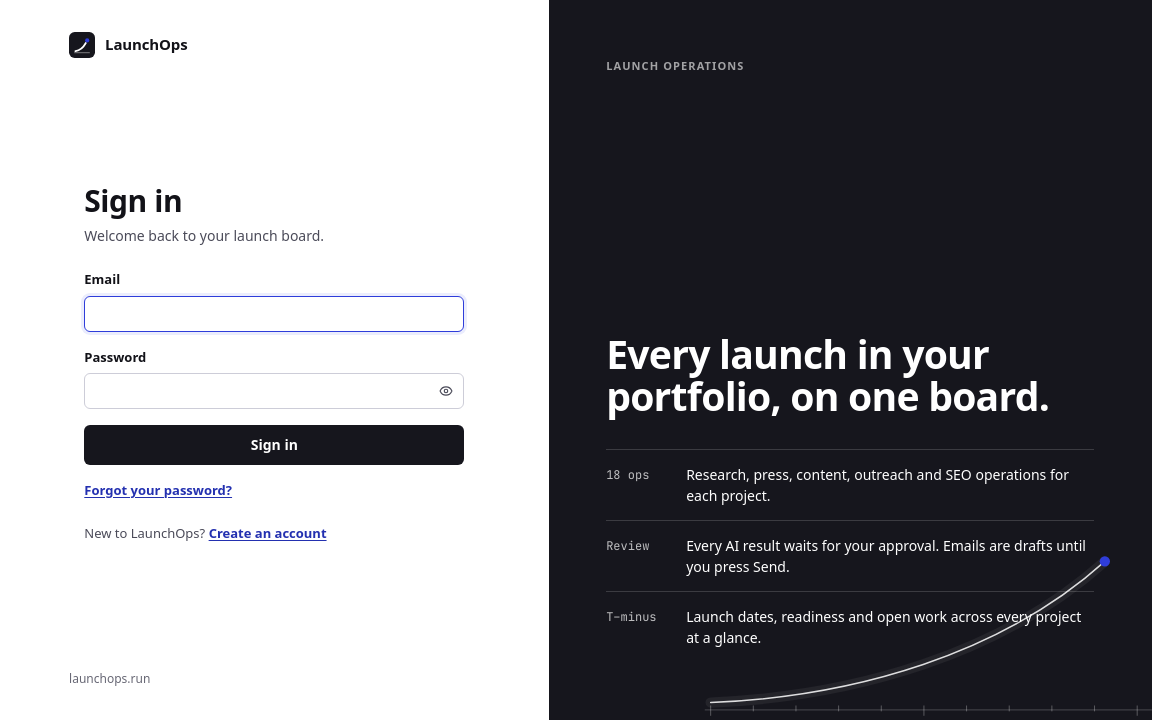
Signing in › shows the password on request so it can be checked
Type "correct-horse" into the password field labelled "Password" at (274, 391), box [84, 373, 464, 409]
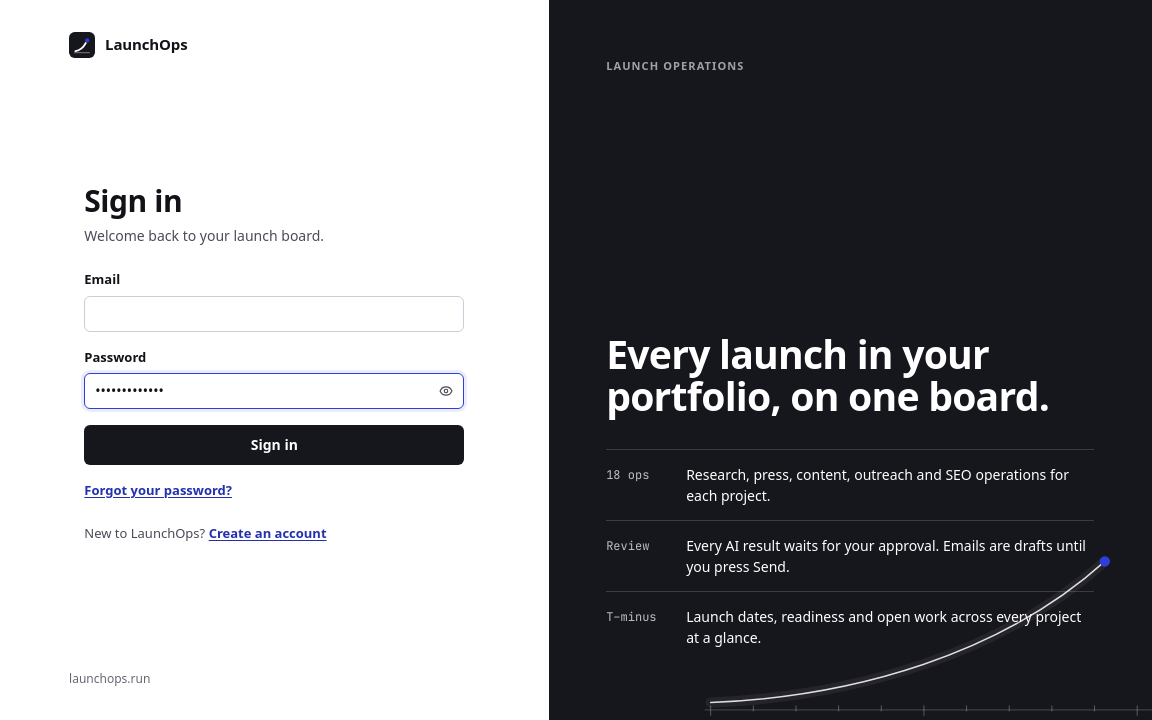
Click the button named "Show password" at (446, 391), box [432, 377, 460, 405]
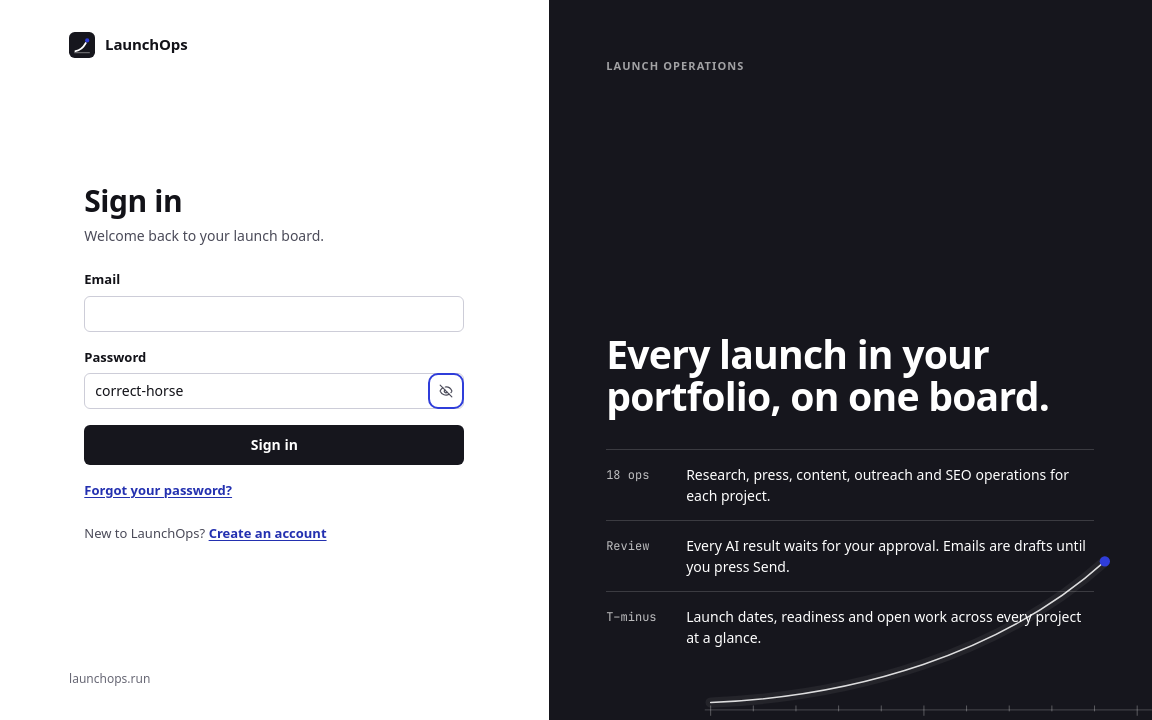
Expected: the field labelled "Password" shows its text, [84, 373, 464, 409]
Click the button named "Hide password" at (446, 391), box [432, 377, 460, 405]
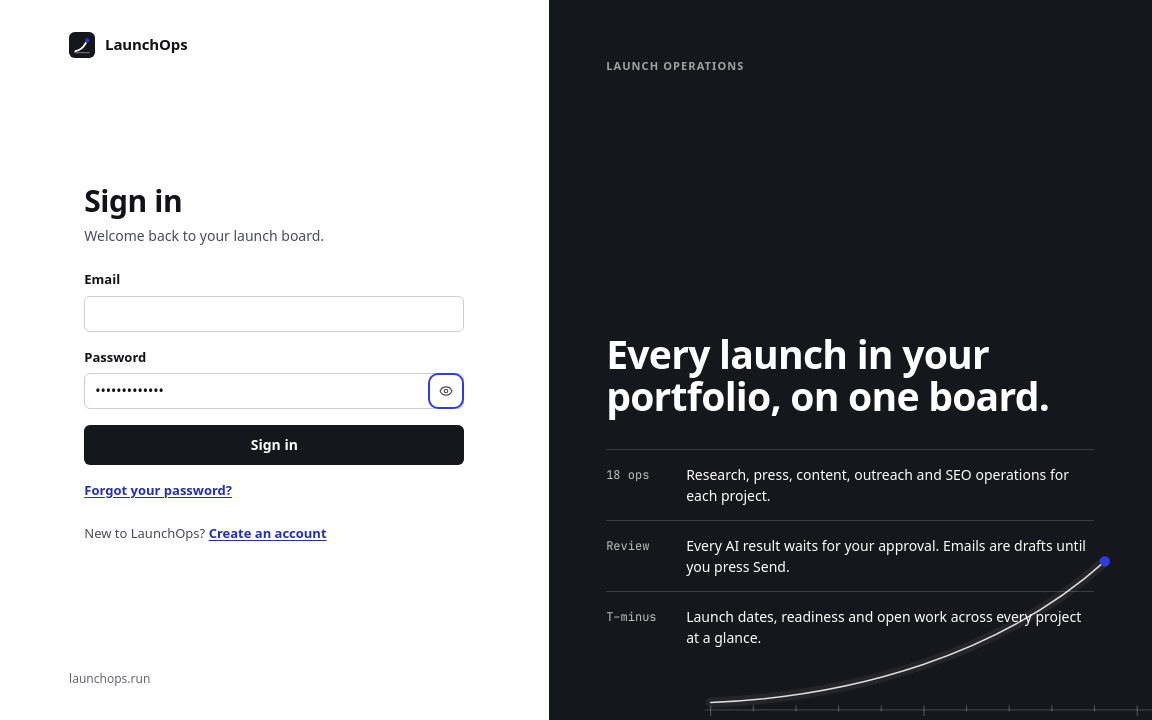
Expected: the password field labelled "Password" hides its text, [84, 373, 464, 409]
